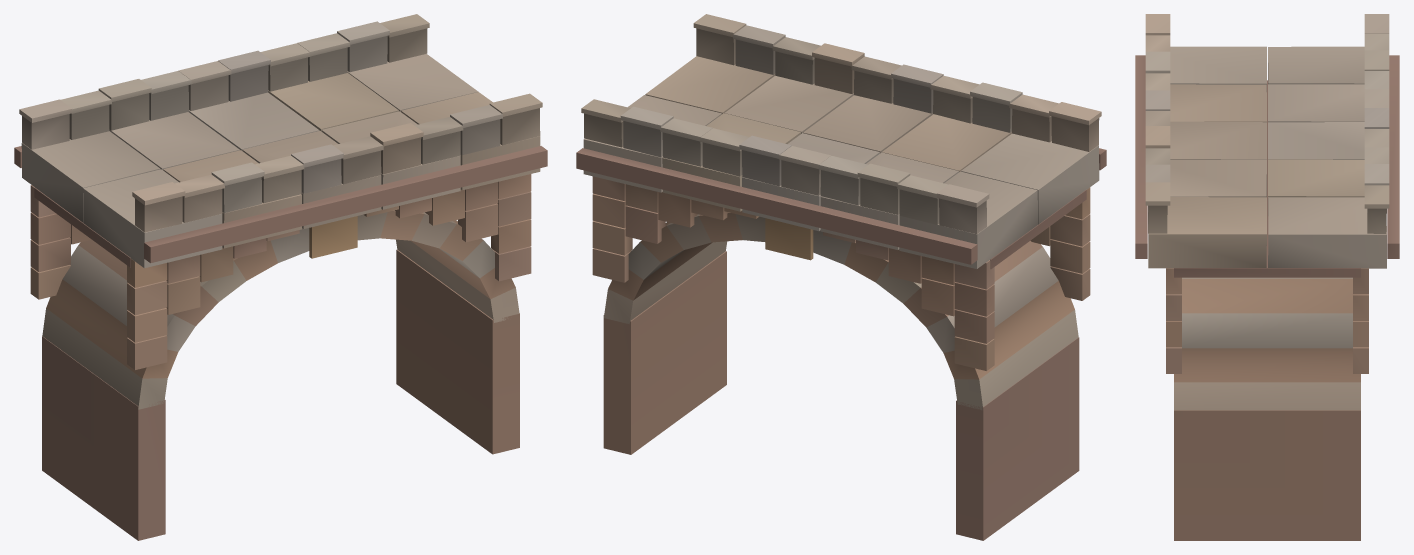
The model's file is span_bay.glb.
3 renders of one model, left to right at view 1: azimuth 30°, elevation 25°; view 2: azimuth 150°, elevation 25°; view 3: azimuth 270°, elevation 25°, orthographic. The views are drawn at different scales.
Visible parts, largest first — view 1: span_bay; view 2: span_bay; view 3: span_bay.
Boxes of the visible parts, x1,y1,x2,y2 form: span_bay: (14,14,547,540); span_bay: (576,14,1106,540); span_bay: (1135,14,1399,540).
Bounding box in the file's own units: 13.02 × 11.07 × 7.72.
